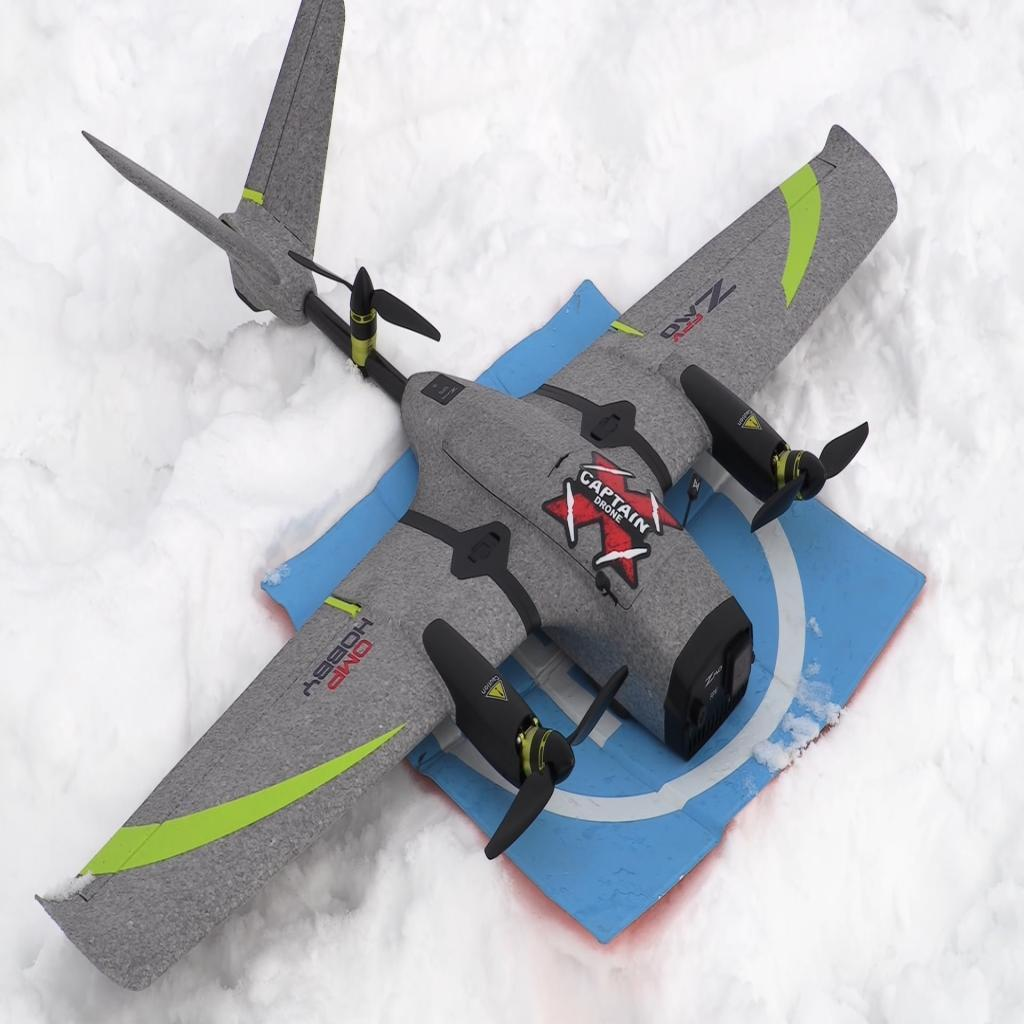drone: (20, 0, 913, 996)
